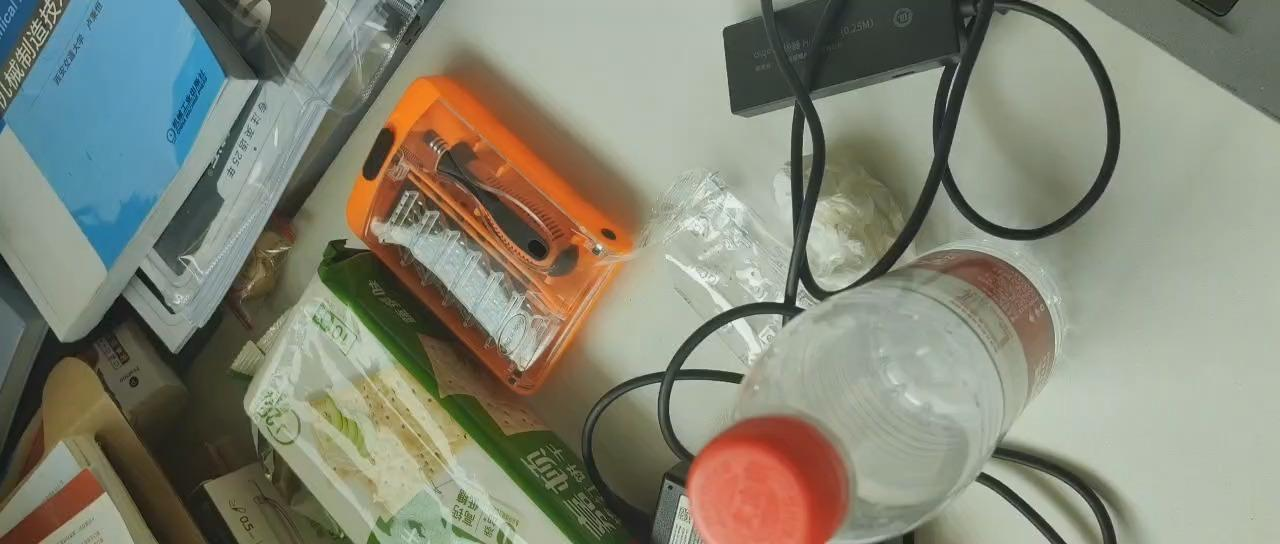BIODEGRADABLE: (681, 236, 1060, 544)
